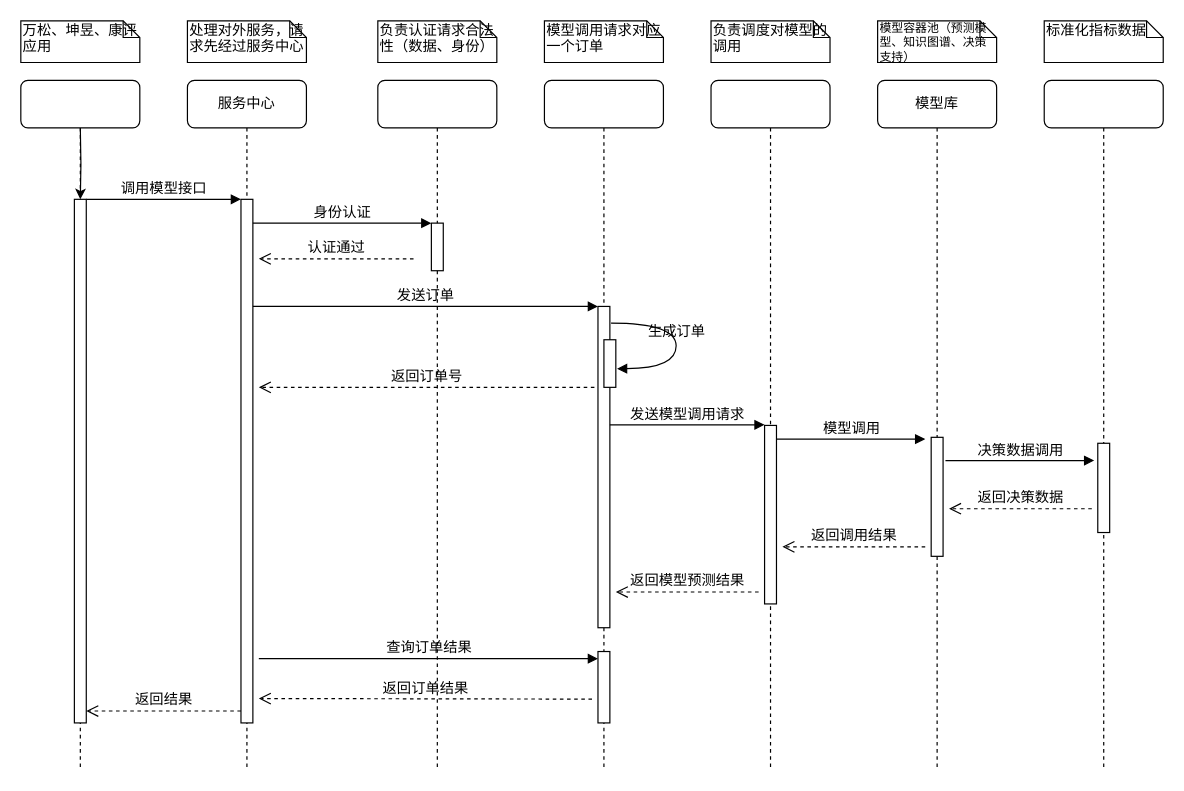
Image size: 1184x791. Some labels were removed from this diagram. Here are the shapes that lost their labels. From the top down, the box of each, then its label:
(20, 79, 140, 771): 应用端
(377, 79, 497, 771): 认证中心
(543, 79, 663, 771): 订单中心
(710, 79, 830, 771): 调度中心
(1043, 79, 1163, 771): 数据中心
